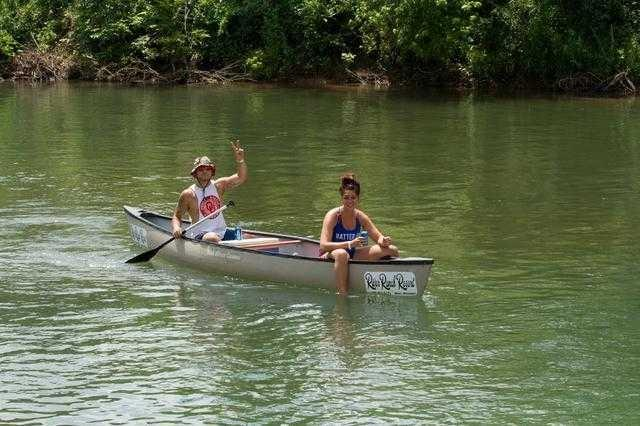kayak: (123, 204, 434, 298)
